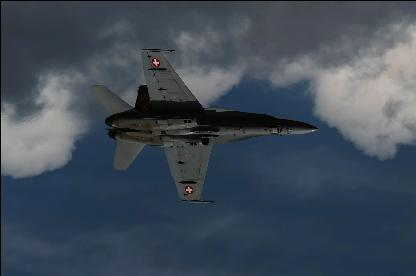F15: (90, 47, 317, 201)
